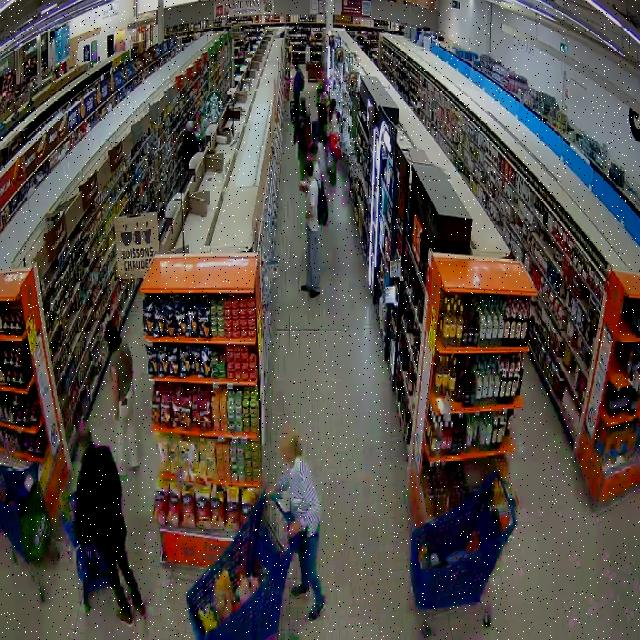bags: (319, 182, 328, 226)
hands: (288, 520, 302, 538), (268, 486, 280, 498), (113, 406, 119, 422)
person: (75, 422, 146, 625), (279, 433, 325, 621), (104, 320, 139, 476), (301, 160, 319, 297), (309, 144, 328, 226), (181, 121, 199, 172)
